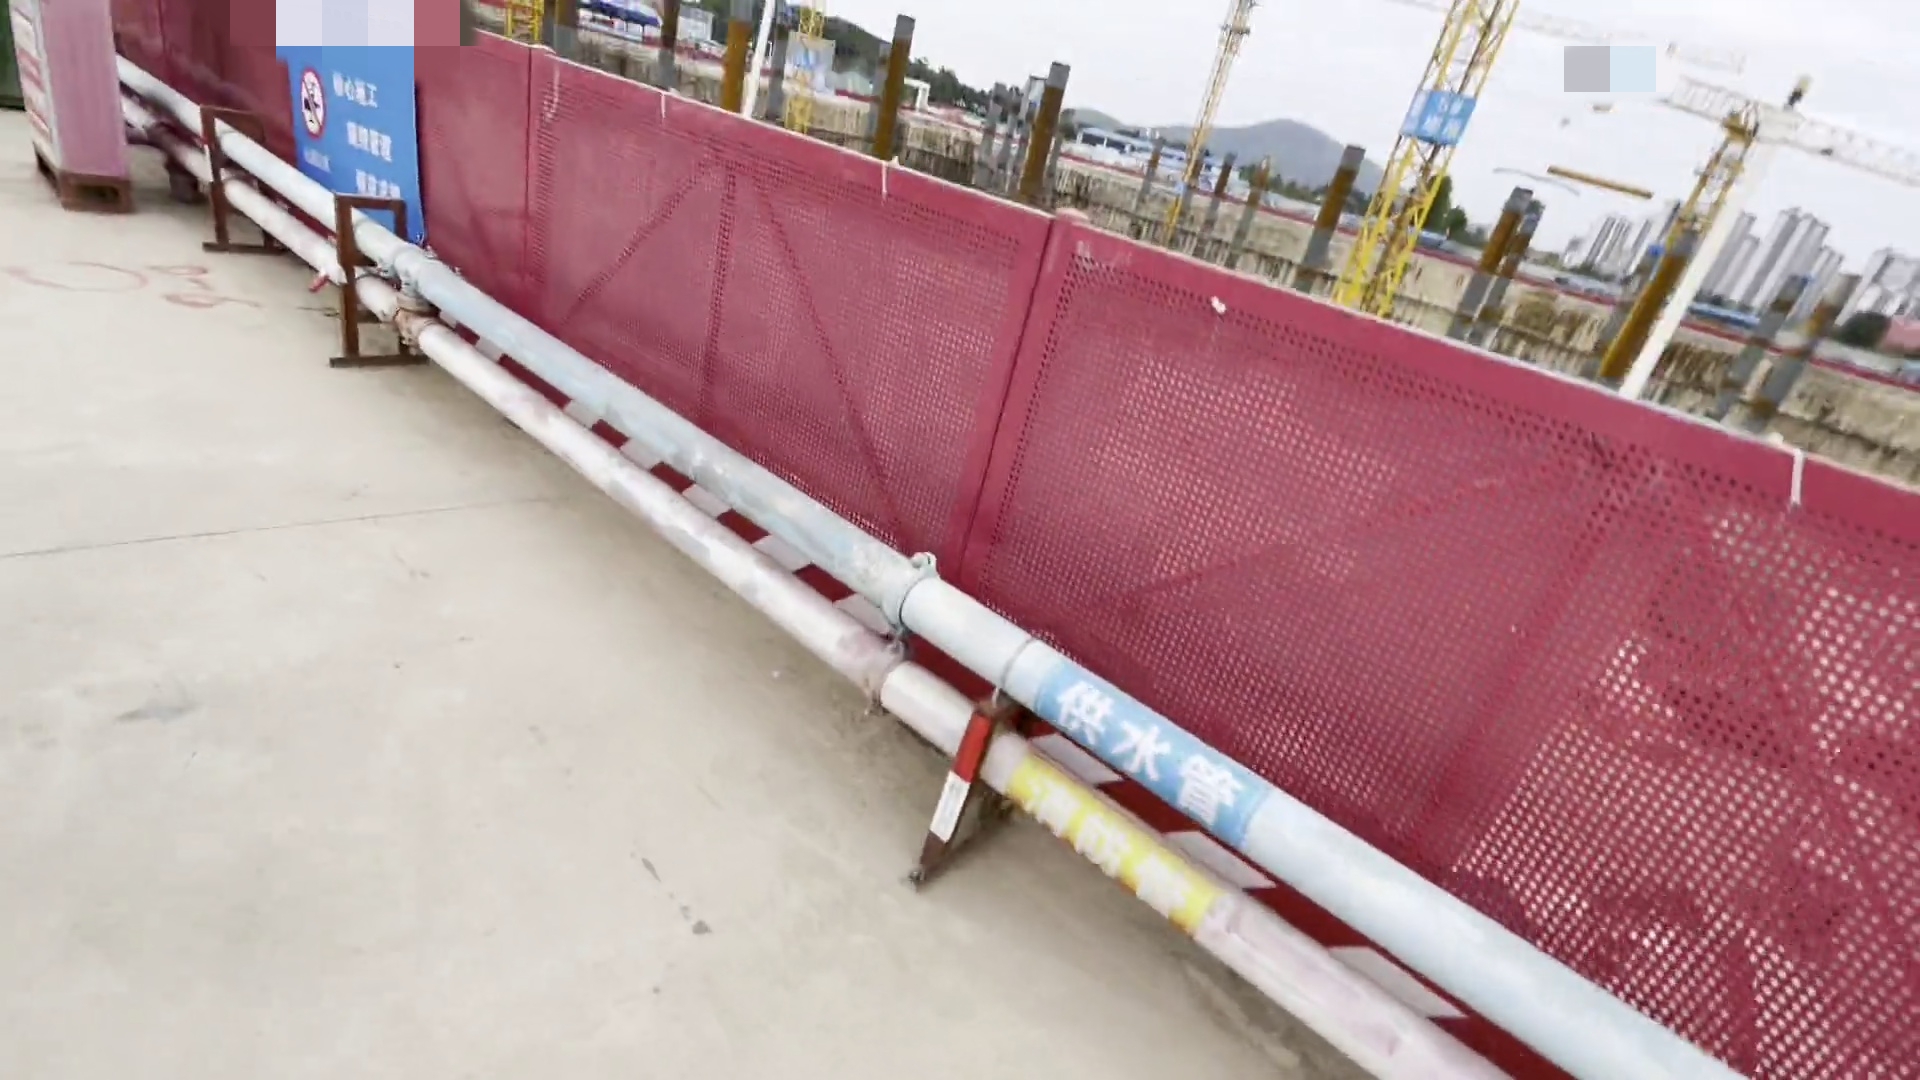fence: (194, 1, 1841, 1042)
slogan: (277, 7, 425, 243)
